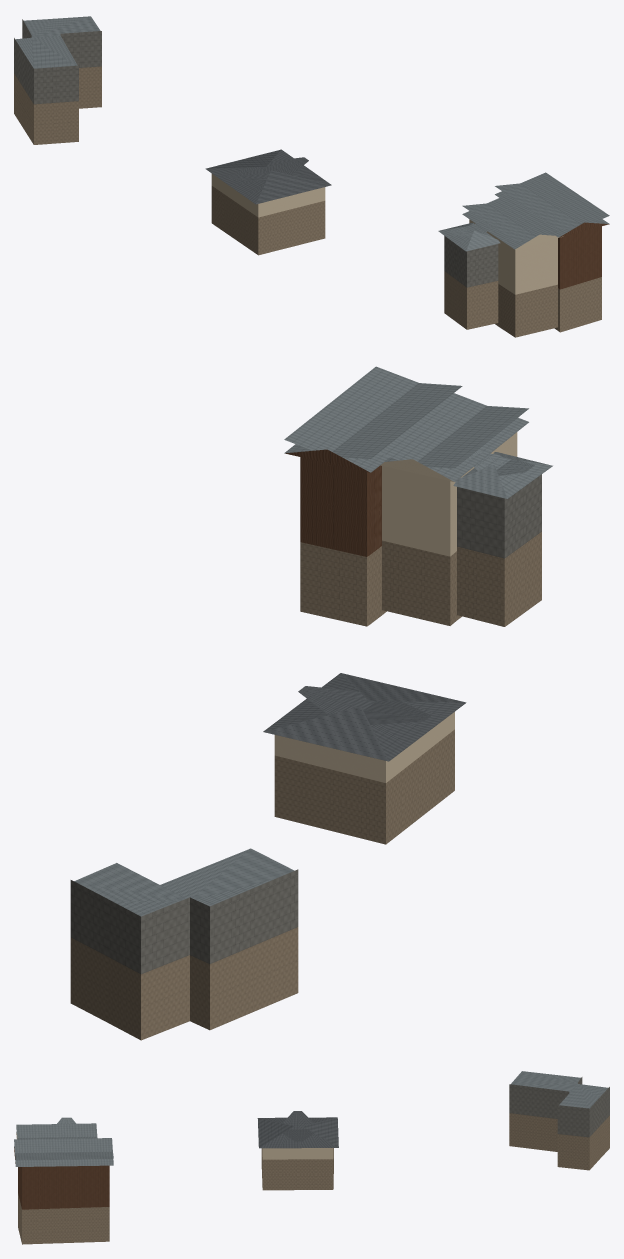
Rendered from bld_c35_-28_449.gltf.
3 views of the same model, one above another, from view 1: azimuth 30°, elevation 25°; view 2: azimuth 150°, elevation 25°; view 3: azimuth 270°, elevation 25° (orthographic). The views are drawn at different scales.
Parts seen in each view (by area): view 1: bld_c35_-28_449; view 2: bld_c35_-28_449; view 3: bld_c35_-28_449.
Boxes of the visible parts, bbox=[...] form: bld_c35_-28_449: bbox=[14, 16, 609, 337]; bld_c35_-28_449: bbox=[70, 366, 552, 1040]; bld_c35_-28_449: bbox=[14, 1071, 609, 1244].
Size of the model in its own units: 32.89 by 12.6 by 79.2.
Materials: 9 (9 with a texture image).
